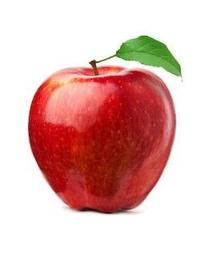apple: (27, 36, 183, 213)
